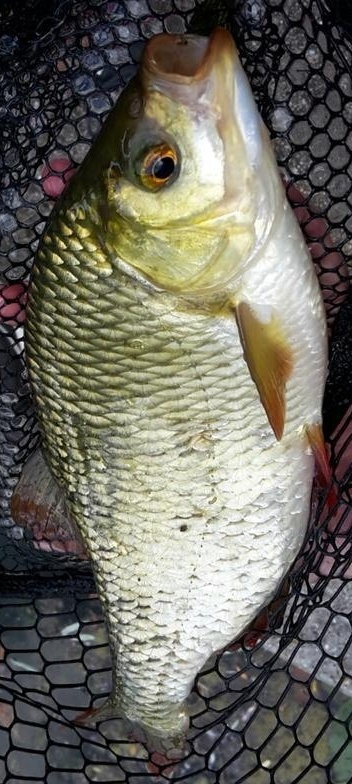Scardinius erythrophthalmus: (20, 20, 332, 764)
